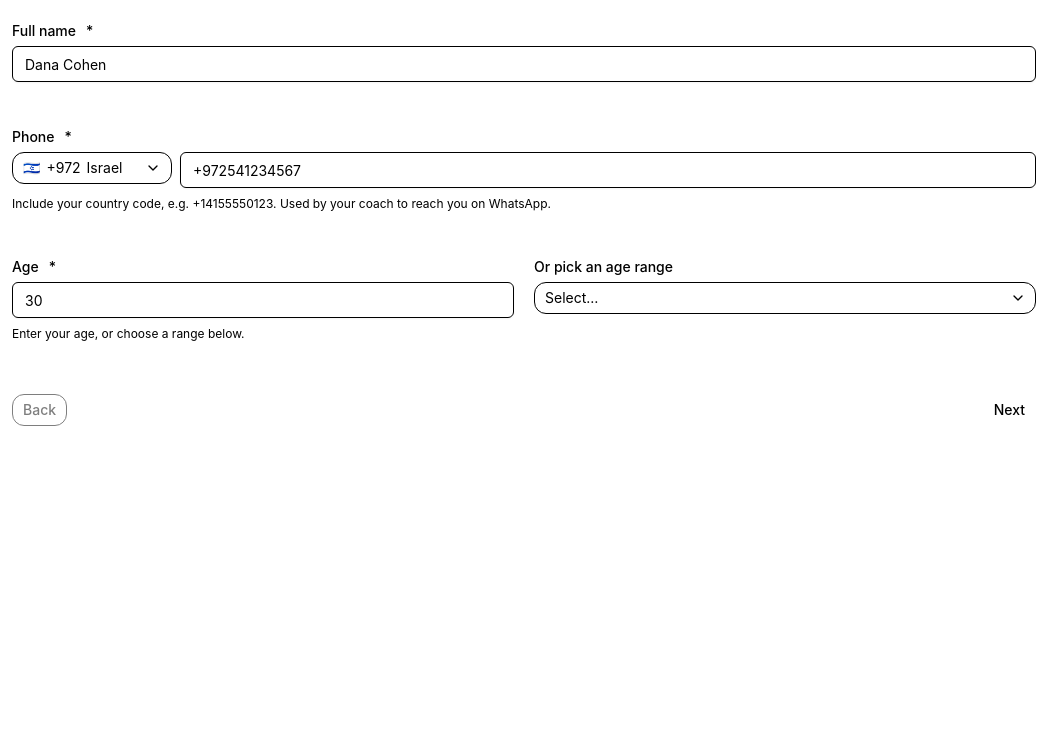
Test case: OnboardingForm save-then-generate flow › auto-redirects to /my-plan when a plan was generated
Click the button "Next" at (1009, 410), box [983,394,1036,426]
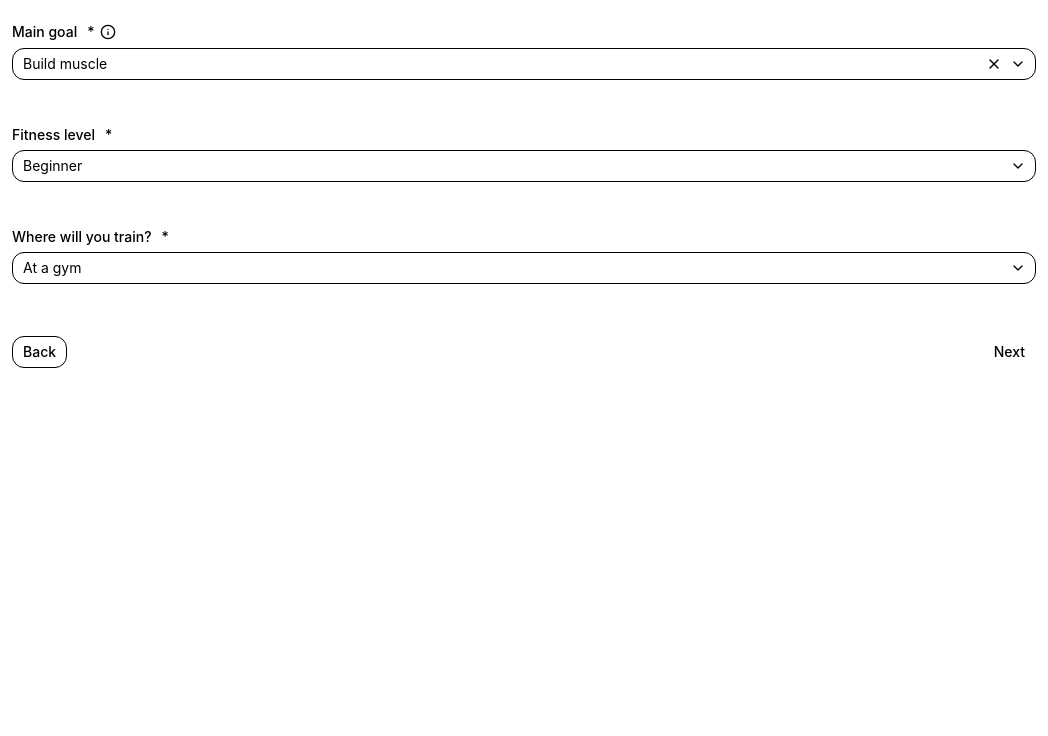
Click the button "Next" at (1009, 352), box [983,336,1036,368]
(page scrolled)
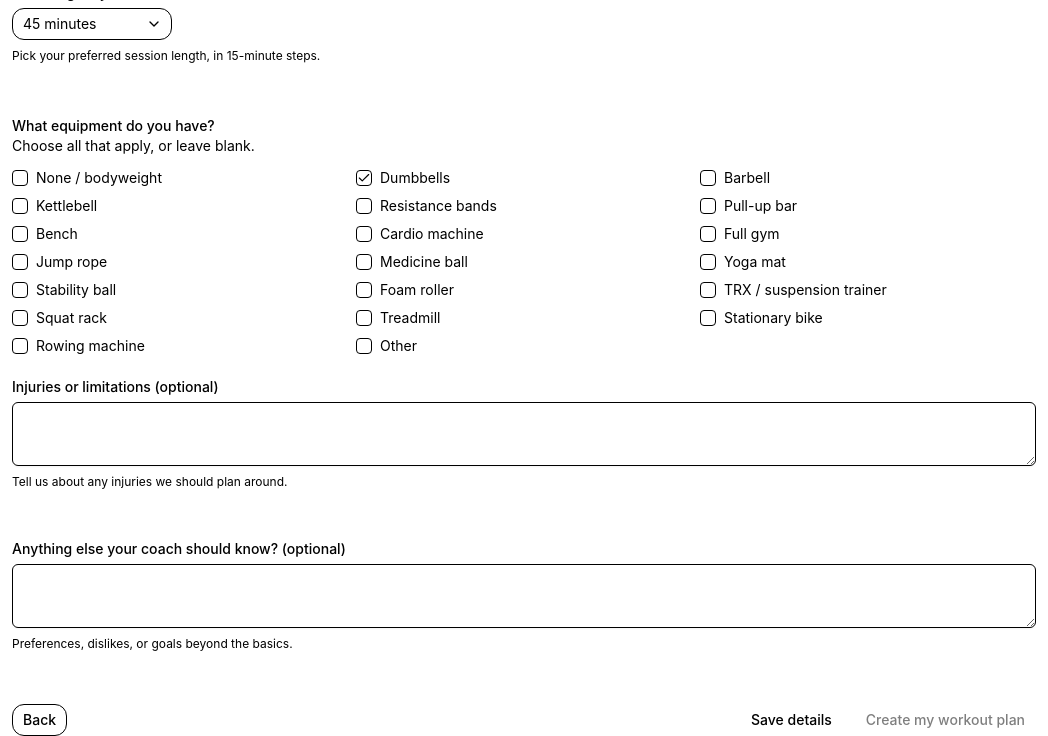
Click the button "Save details" at (791, 720), box [740,704,843,735]
(page scrolled)
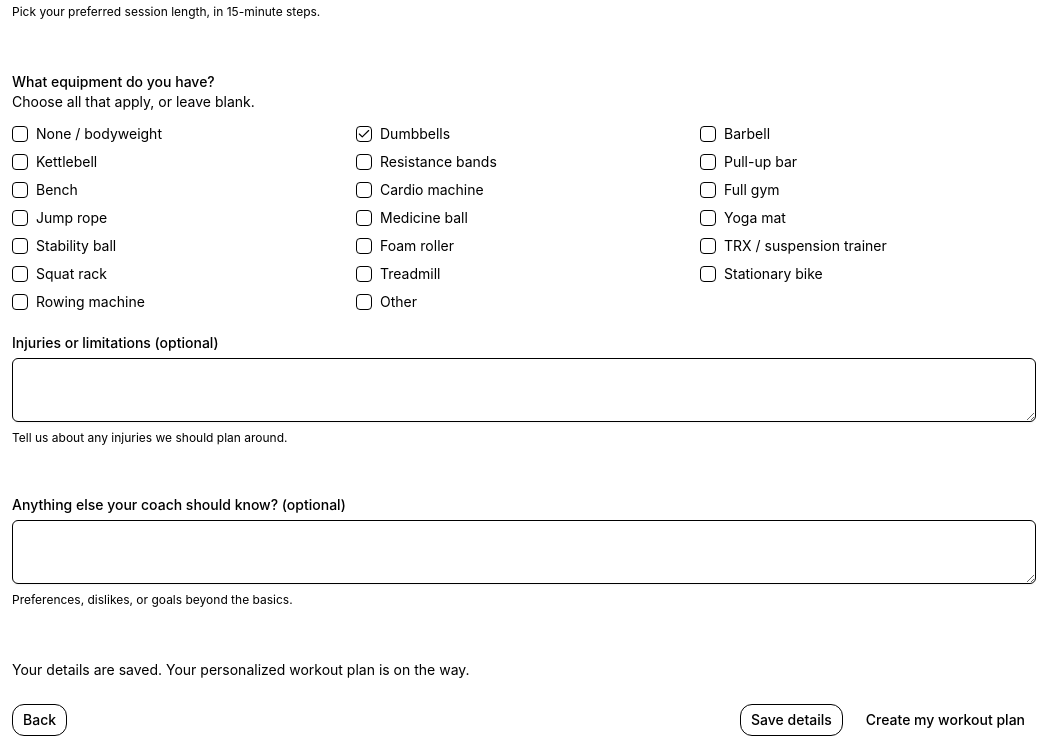
Now the button "Create my workout plan" is enabled
Click the button "Create my workout plan" at (945, 720), box [855,704,1036,735]
(page scrolled)
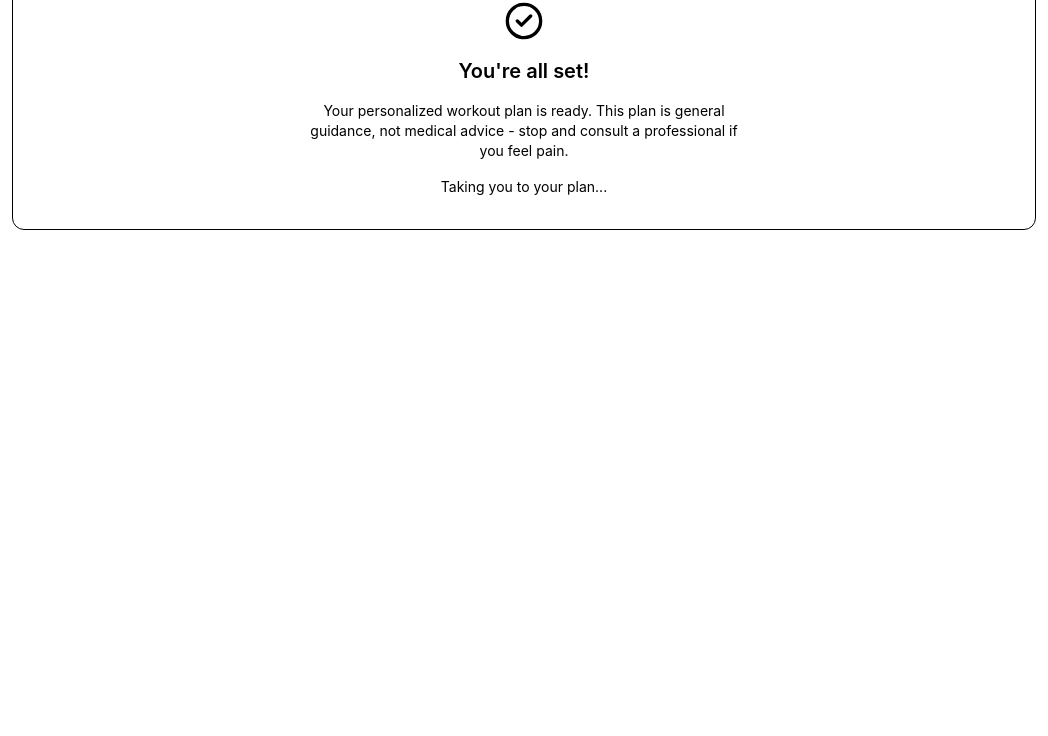
Now the text "Taking you to your plan..." is shown, box [441,177,607,197]
